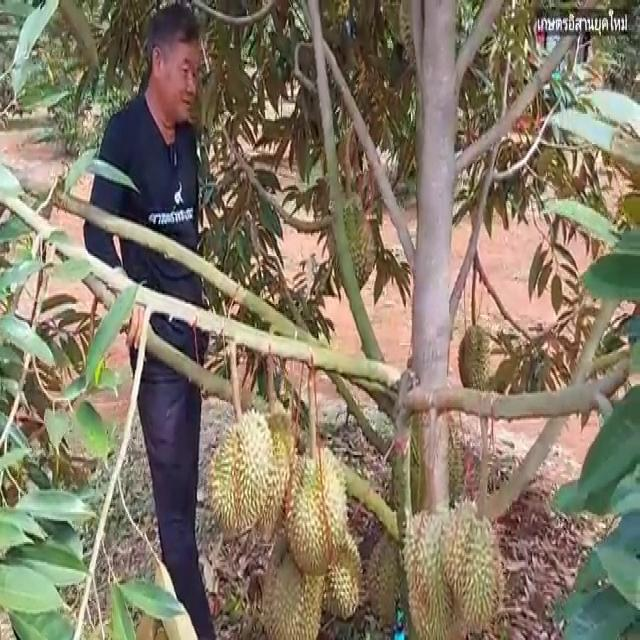durian: (435, 490, 509, 634), (205, 400, 274, 544), (399, 497, 466, 638), (284, 433, 350, 576), (263, 517, 326, 638), (303, 516, 367, 626), (329, 188, 380, 308), (356, 514, 409, 628), (457, 316, 494, 402)
